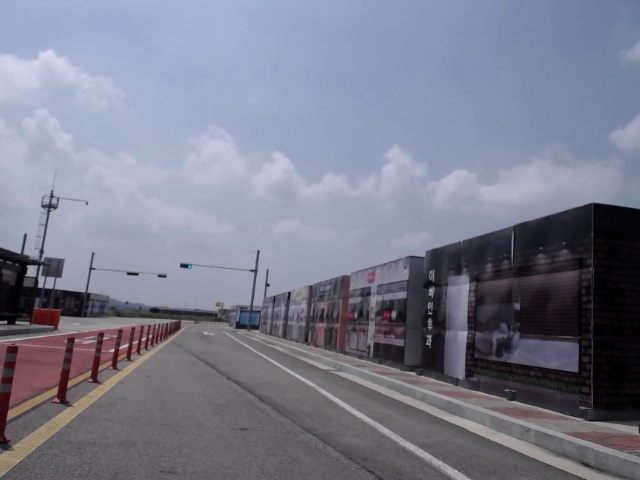green_3: (179, 263, 192, 270)
